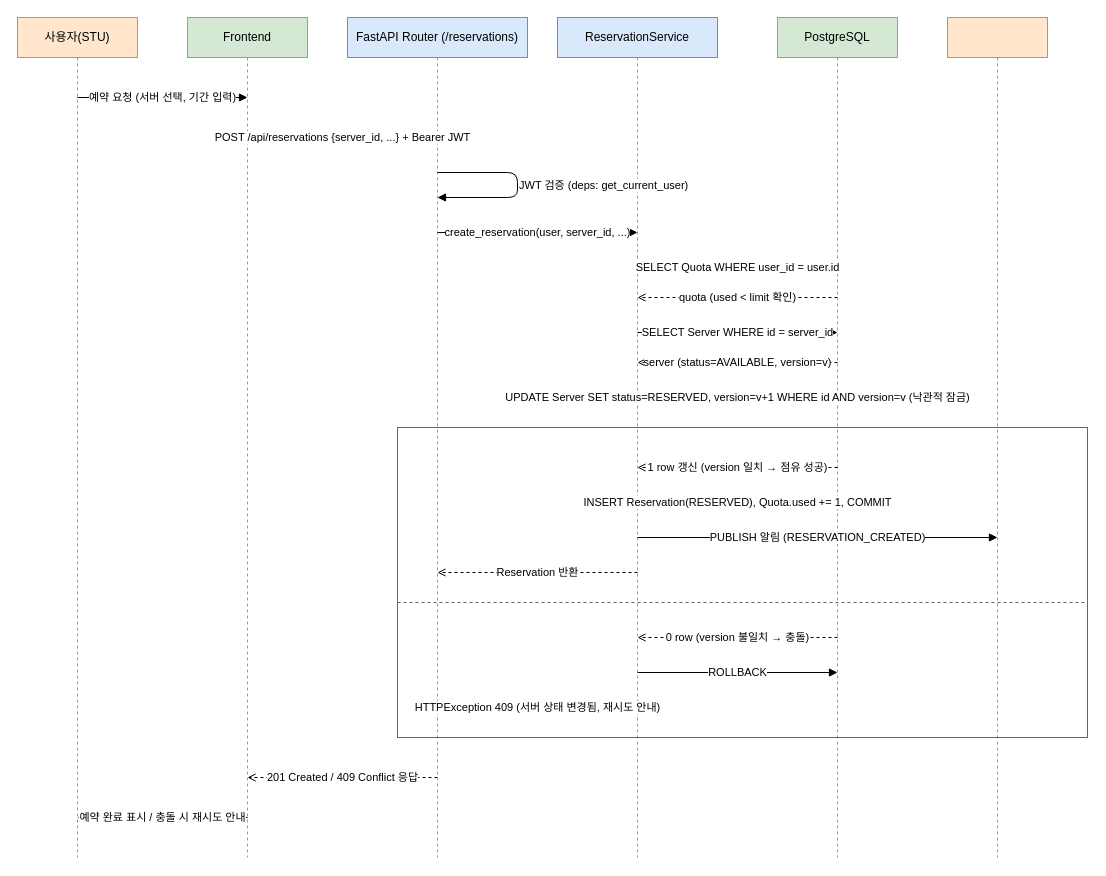
This 1106x876 diagram has some shape labels left out. The shapes that lost their labels are listed below. From the top down, each one's box as (x1, y1, x2, y2) in pixels, then its label:
(946, 16, 1048, 58): Redis
(396, 426, 1088, 738): alt [version 일치 / 불일치]
